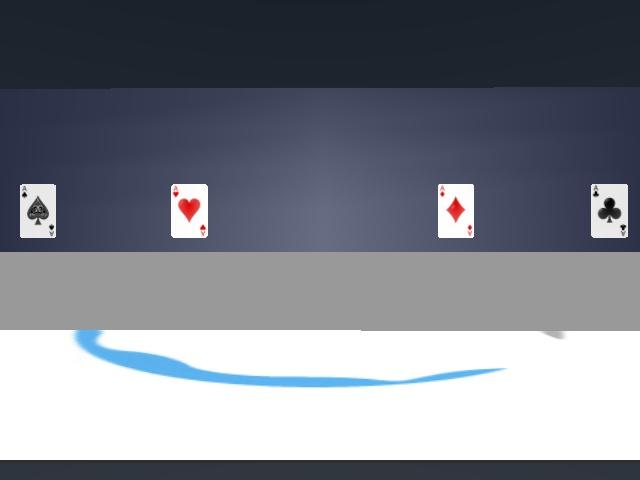club: (591, 184, 628, 237)
diamond: (438, 184, 474, 237)
heart: (171, 184, 207, 237)
spade: (19, 184, 56, 237)
